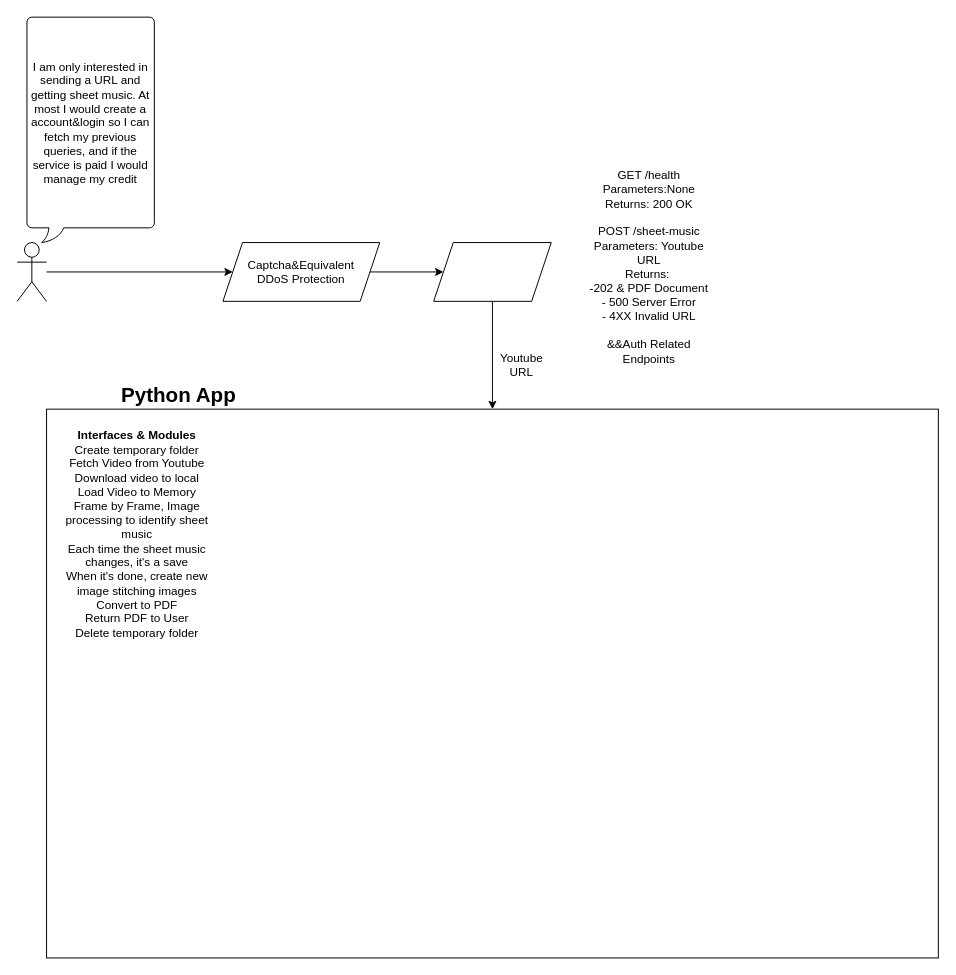
Image size: 956x975. Some labels were removed from this diagram. The centre of each missing label's shape, as x and y in pixels:
"HTTP Endpoints" belongs at point 492,271.
"User" belongs at point 31,271.
